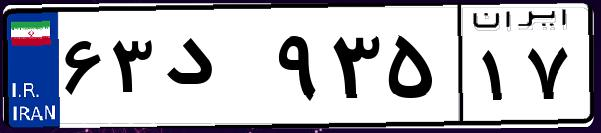1: (475, 38, 525, 113)
3: (330, 28, 385, 110), (110, 28, 158, 98)
5: (385, 28, 445, 110)
6: (57, 26, 110, 100)
7: (525, 38, 570, 115)
9: (270, 28, 330, 110)
د: (158, 20, 270, 120)
